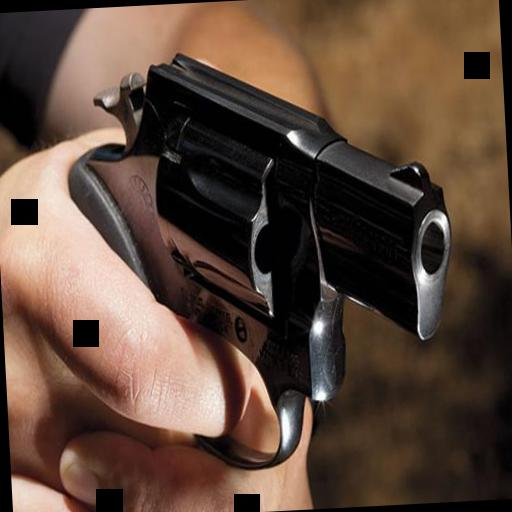Handgun: (49, 31, 463, 480)
